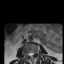CCS_normal: (30, 50, 32, 59)
LFS_normal: (33, 50, 36, 55)
LLS_normal: (32, 50, 33, 58)
RFS_normal: (26, 51, 28, 57)
RLS_normal: (28, 50, 30, 58)
